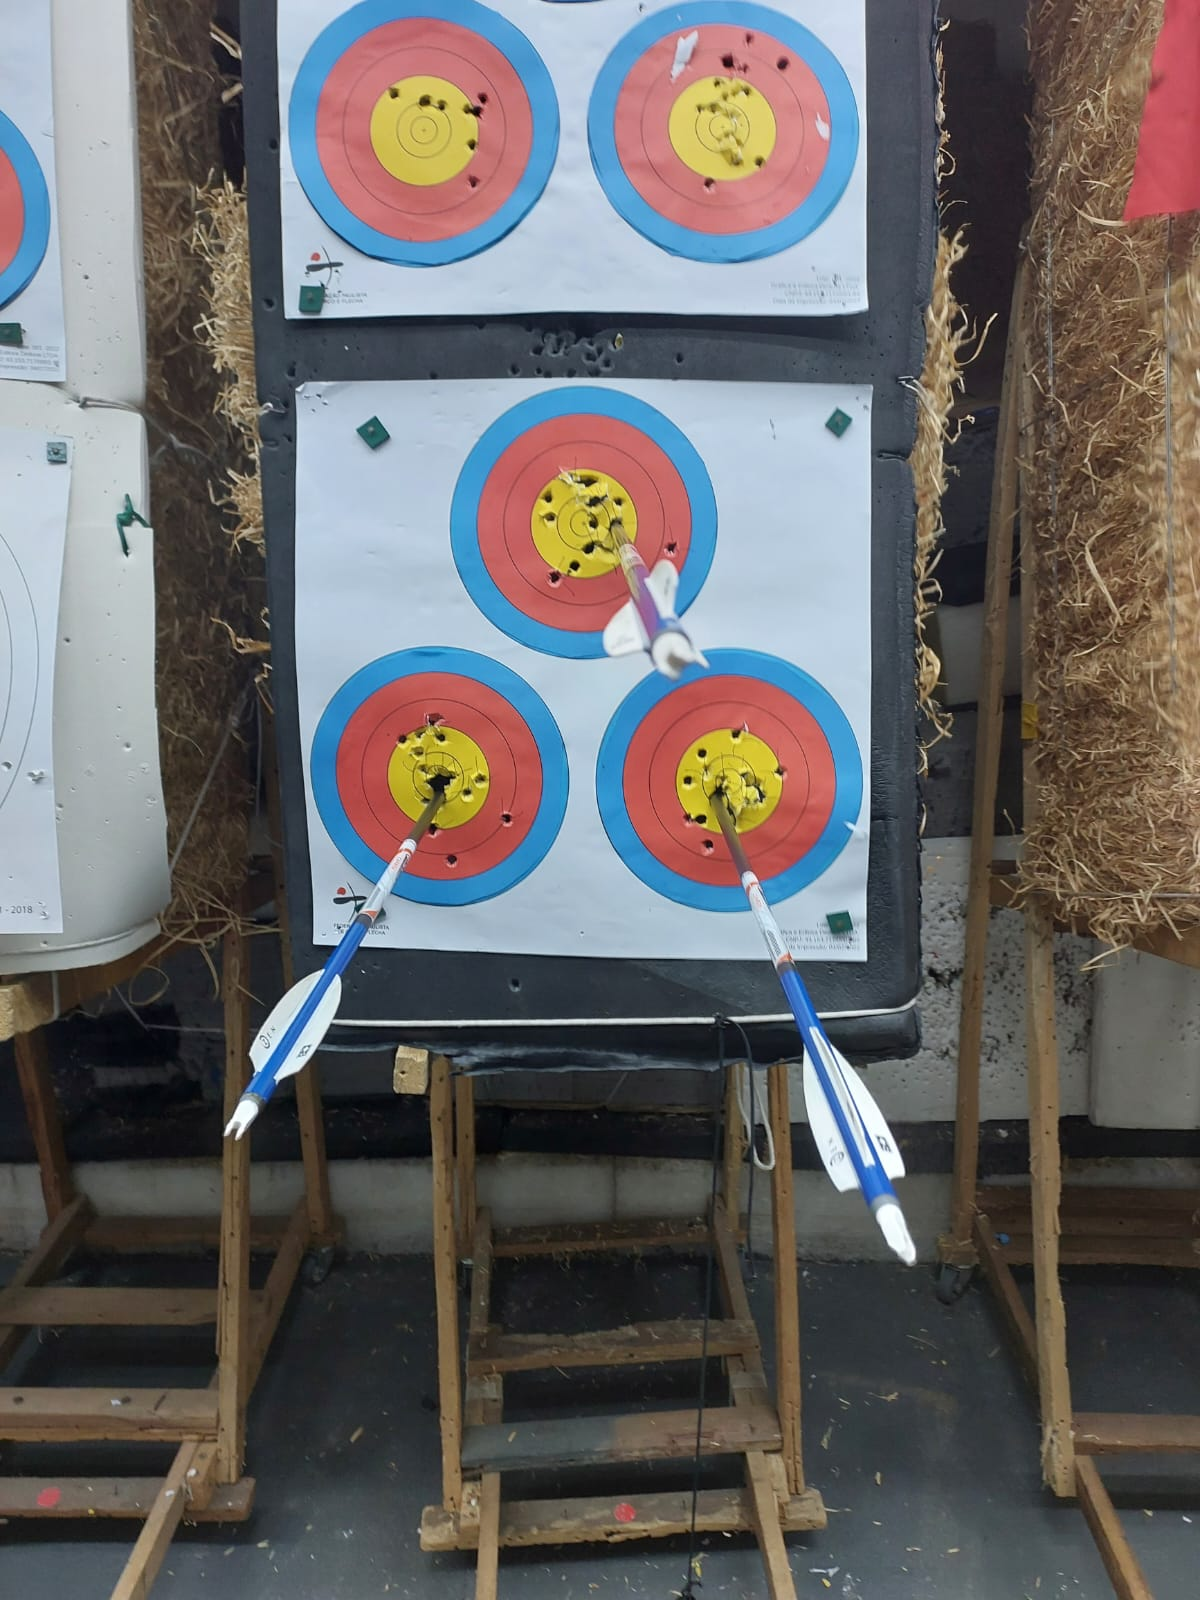9: (603, 625, 877, 942), (460, 402, 716, 655)
9 linha 10: (316, 627, 586, 917)
